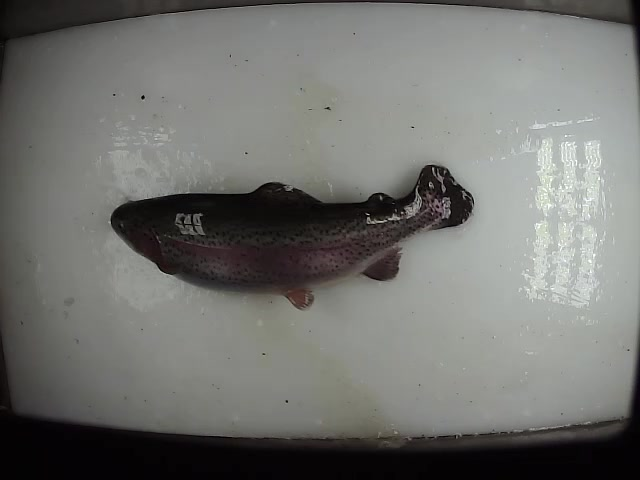fish: (108, 162, 477, 314)
